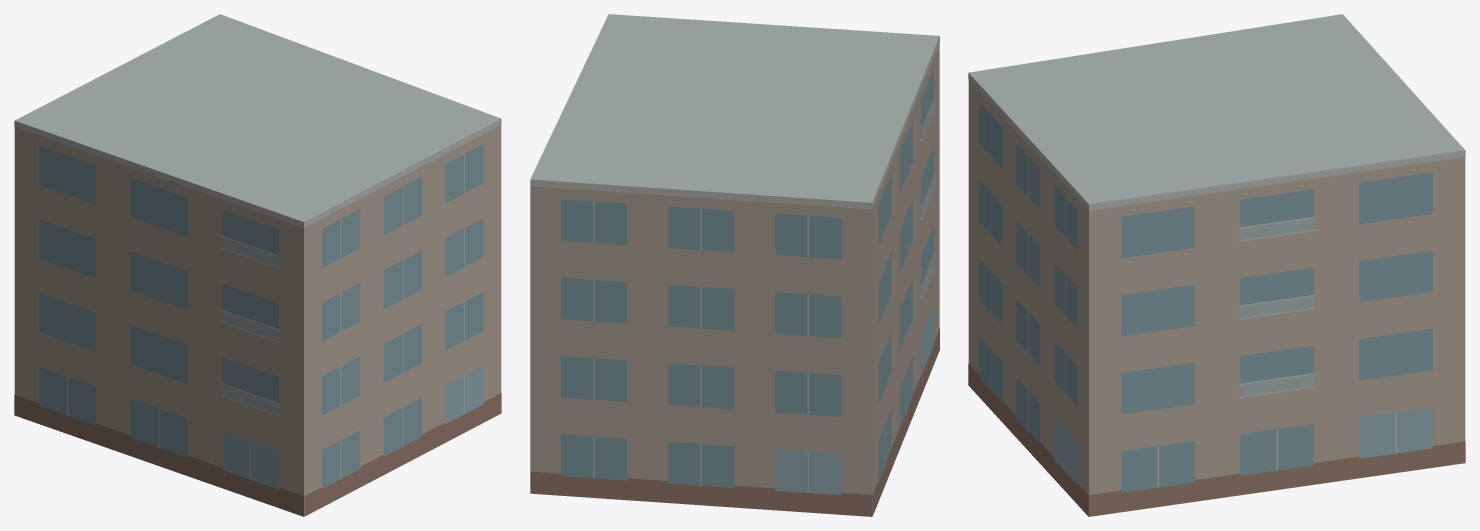
File: survey-upis-32854669.glb
3 renders of one model, left to right at view 1: azimuth 30°, elevation 25°; view 2: azimuth 150°, elevation 25°; view 3: azimuth 270°, elevation 25°, orthographic. The views are drawn at different scales.
Visible parts, largest first — view 1: survey-upis-32854669.tmp; view 2: survey-upis-32854669.tmp; view 3: survey-upis-32854669.tmp.
Boxes of the visible parts, left/top/right/bottom form: survey-upis-32854669.tmp: left=14, top=14, right=501, bottom=516; survey-upis-32854669.tmp: left=530, top=14, right=939, bottom=516; survey-upis-32854669.tmp: left=968, top=14, right=1465, bottom=516.
Bounding box in the file's own units: 15.1 × 11.57 × 16.68.
